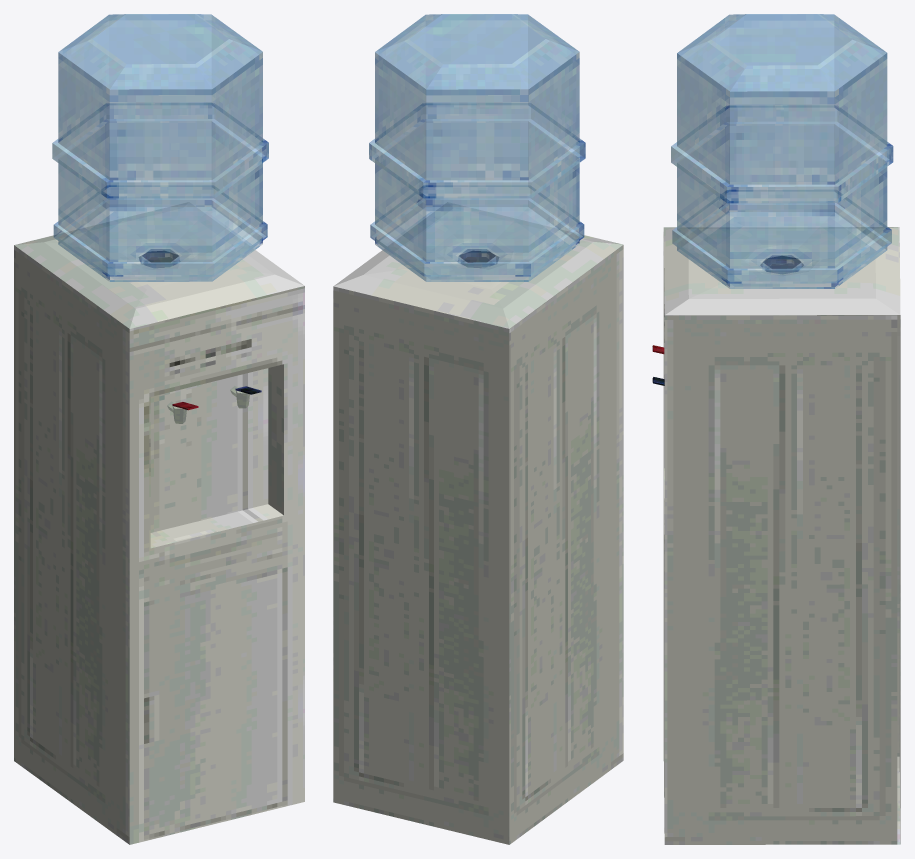
The model's file is 02_water_cooler_bottle_attached_destructible.glb.
3 views of the same model, side by side, from view 1: azimuth 30°, elevation 25°; view 2: azimuth 150°, elevation 25°; view 3: azimuth 270°, elevation 25° (orthographic). The views are drawn at different scales.
Visible parts, largest first — view 1: Part_004.001, Part_008; view 2: Part_004.001, Part_008; view 3: Part_004.001, Part_008.
Boxes of the visible parts, <box> form: Part_004.001: <box>14,202,304,844</box>; Part_008: <box>52,14,268,281</box>; Part_004.001: <box>333,202,623,844</box>; Part_008: <box>369,14,585,281</box>; Part_004.001: <box>652,227,900,844</box>; Part_008: <box>671,14,893,288</box>.
Size of what is drawn, in the model's own units: 0.3792 by 1.52 by 0.4498.
Materials: 1 (1 with a texture image).
